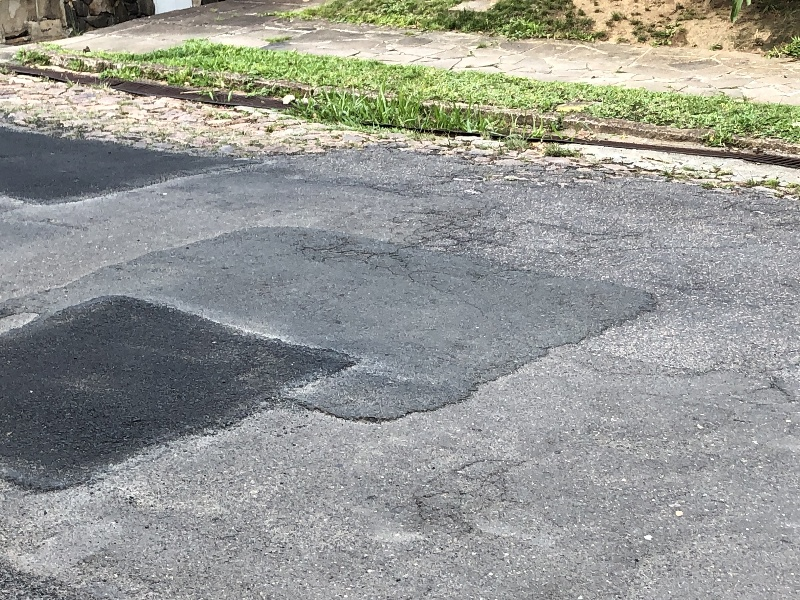v94: (32, 43, 797, 184)
